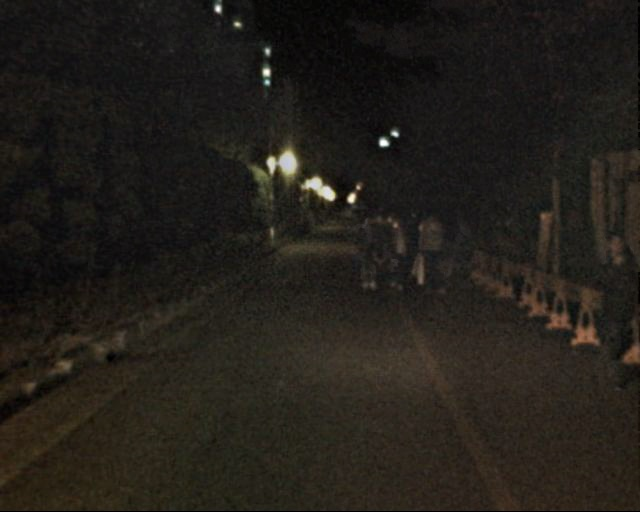person: (581, 231, 640, 387), (415, 211, 448, 291), (378, 213, 410, 292), (351, 213, 381, 287), (448, 215, 478, 287), (433, 223, 459, 286), (398, 222, 420, 276)
